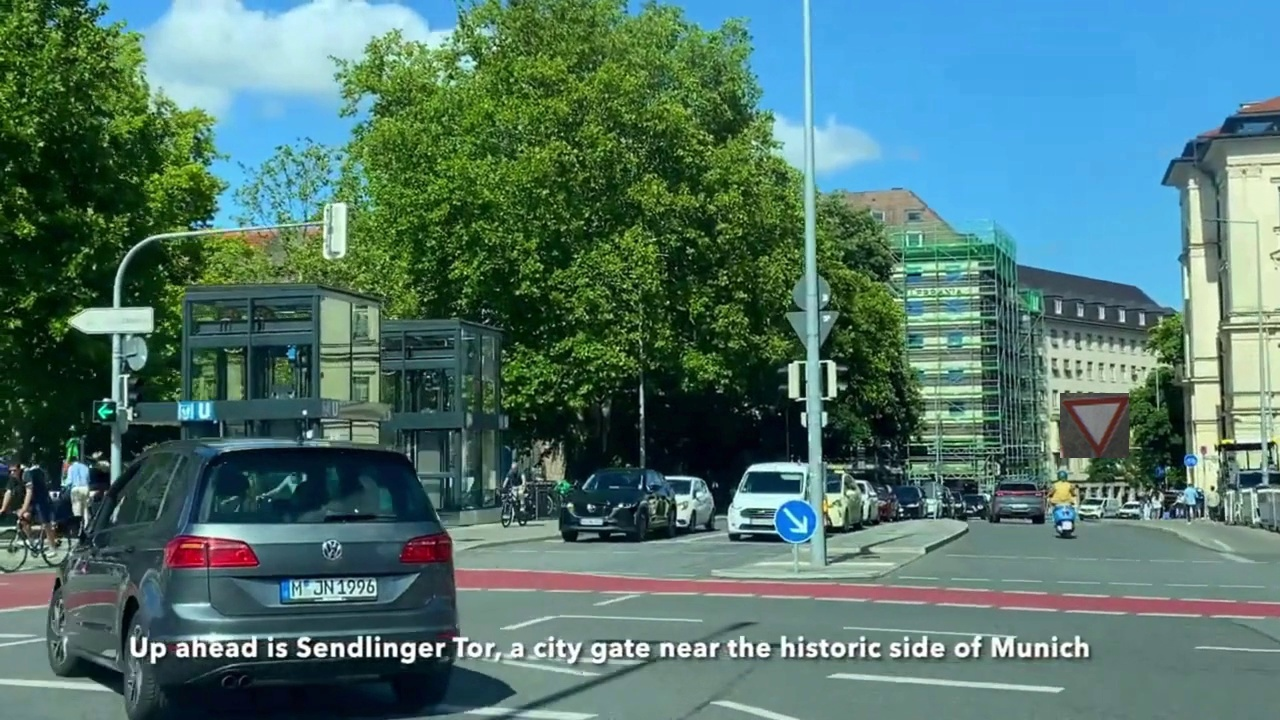Yield: (1060, 393, 1129, 458)
